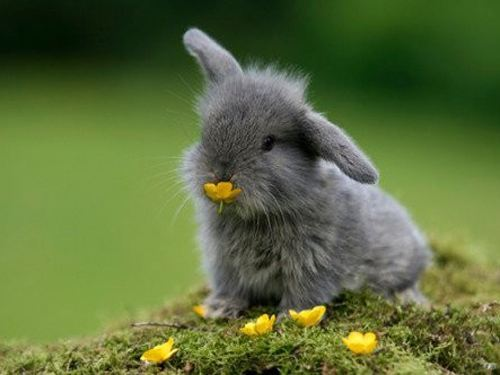bunny: (156, 17, 444, 324)
